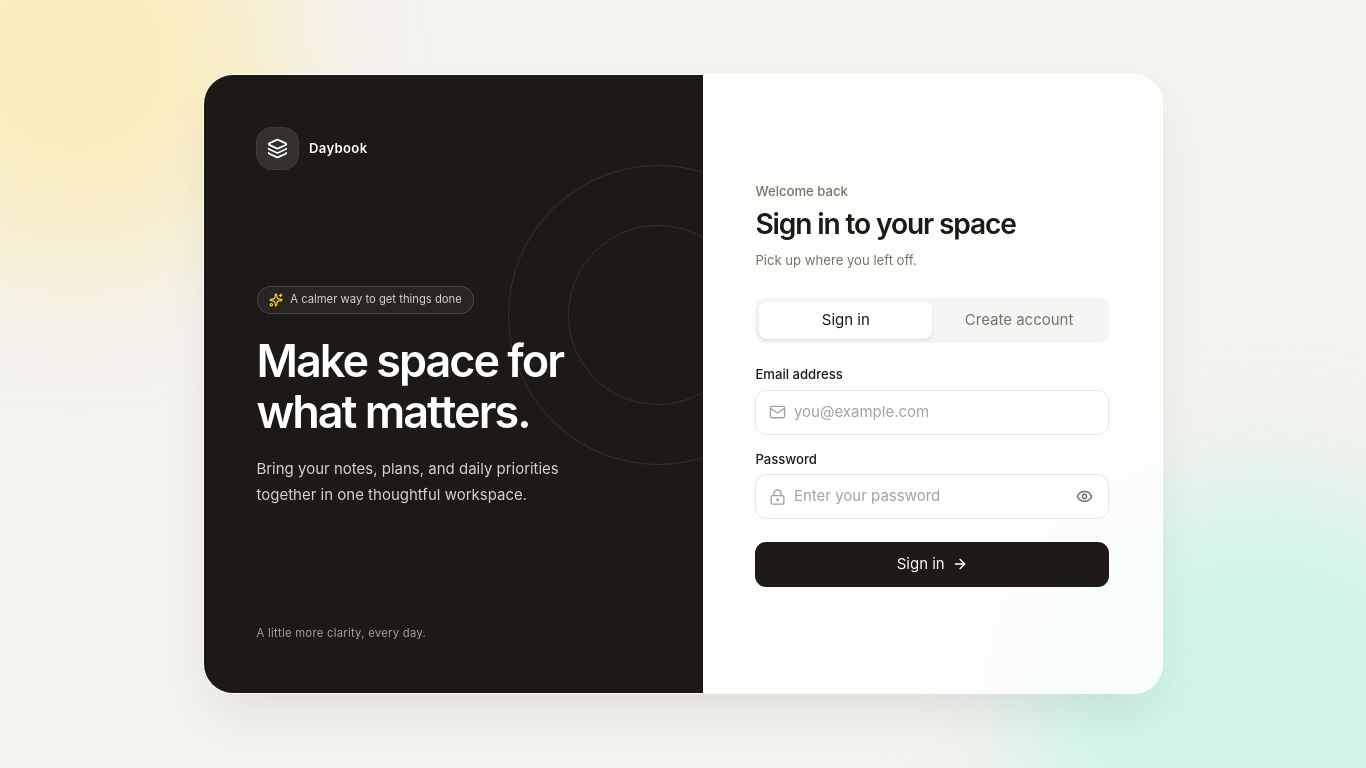
LoginScreen › allows showing and hiding the password
Type "secret1" into the password field labelled "Password". click: (932, 496)
box: [756,474,1110,519]
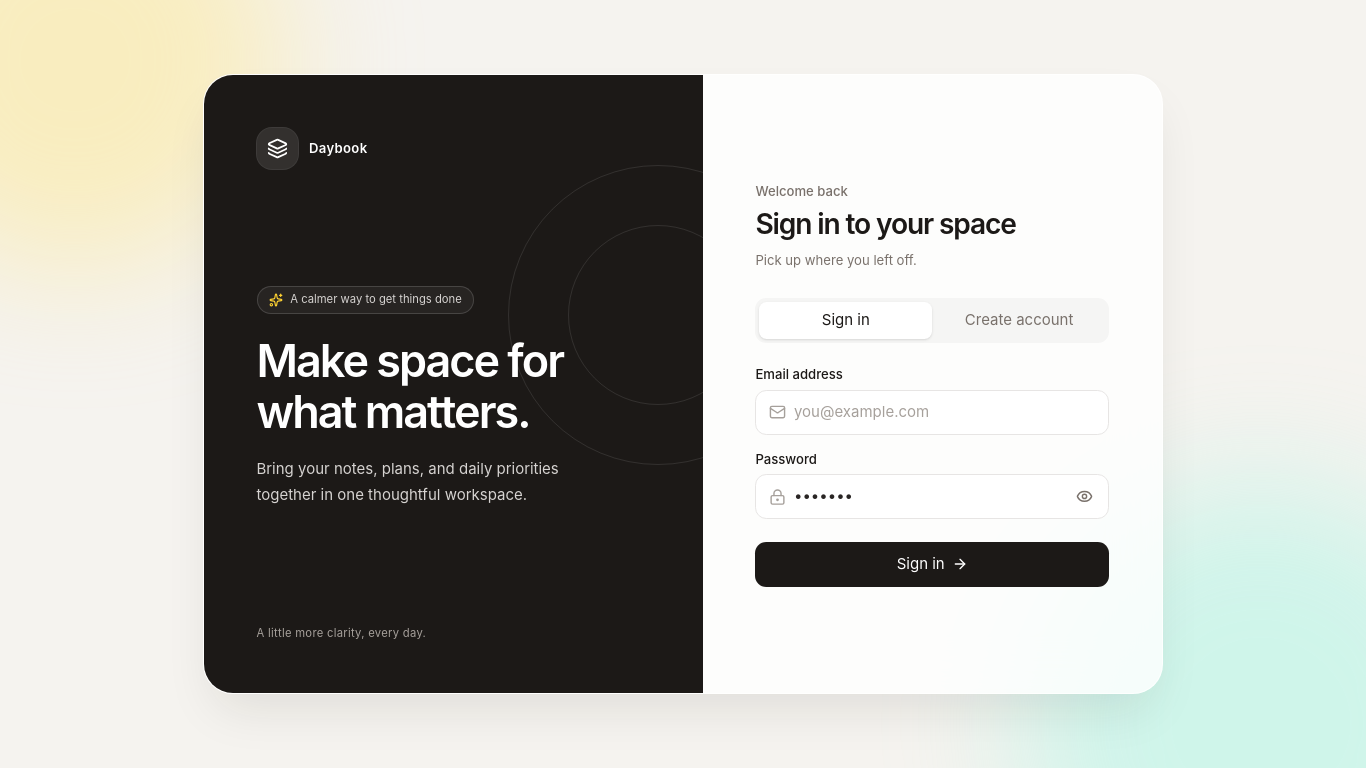
Click the button named "Show password". click: (1084, 497)
box: [1070,482,1098,511]
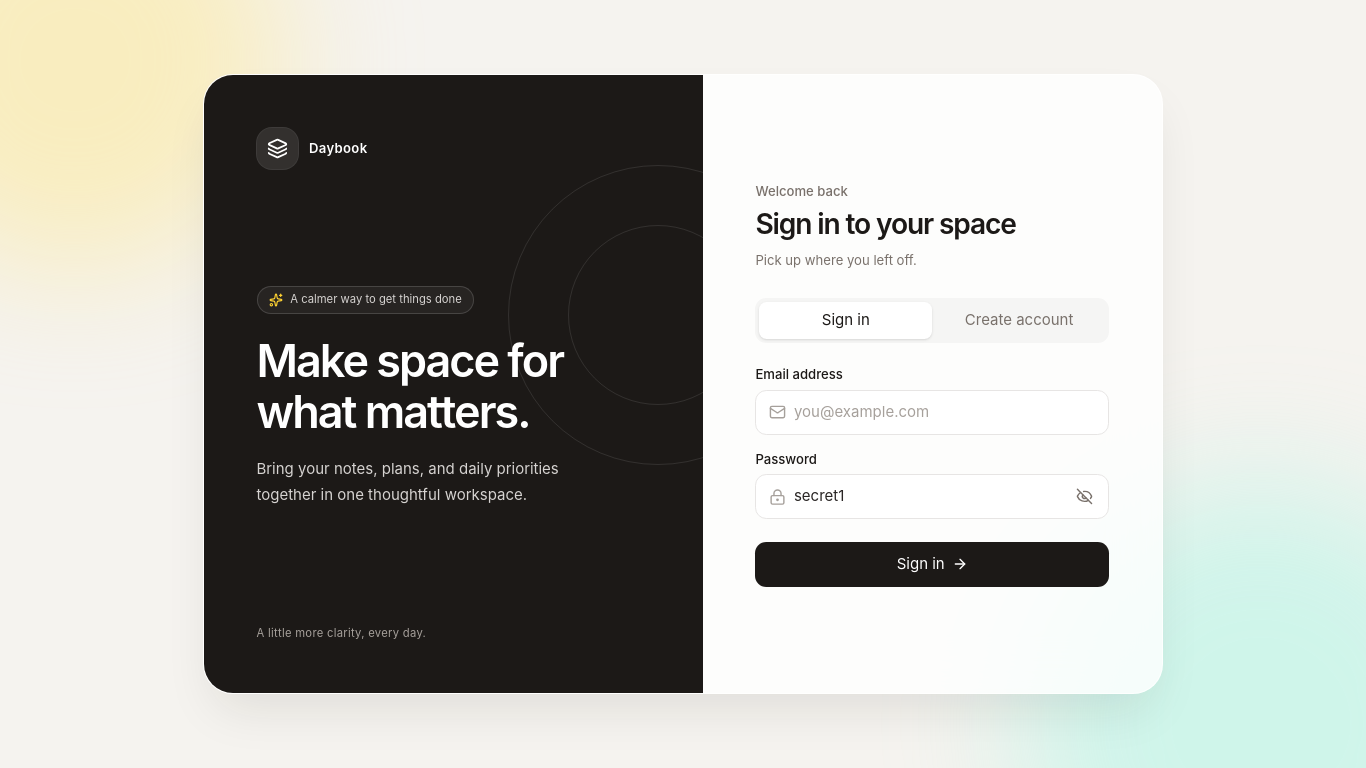
Now the field labelled "Password" shows its text, box [756,474,1110,519]
Click the button named "Hide password". click: (1084, 497)
box: [1070,482,1098,511]
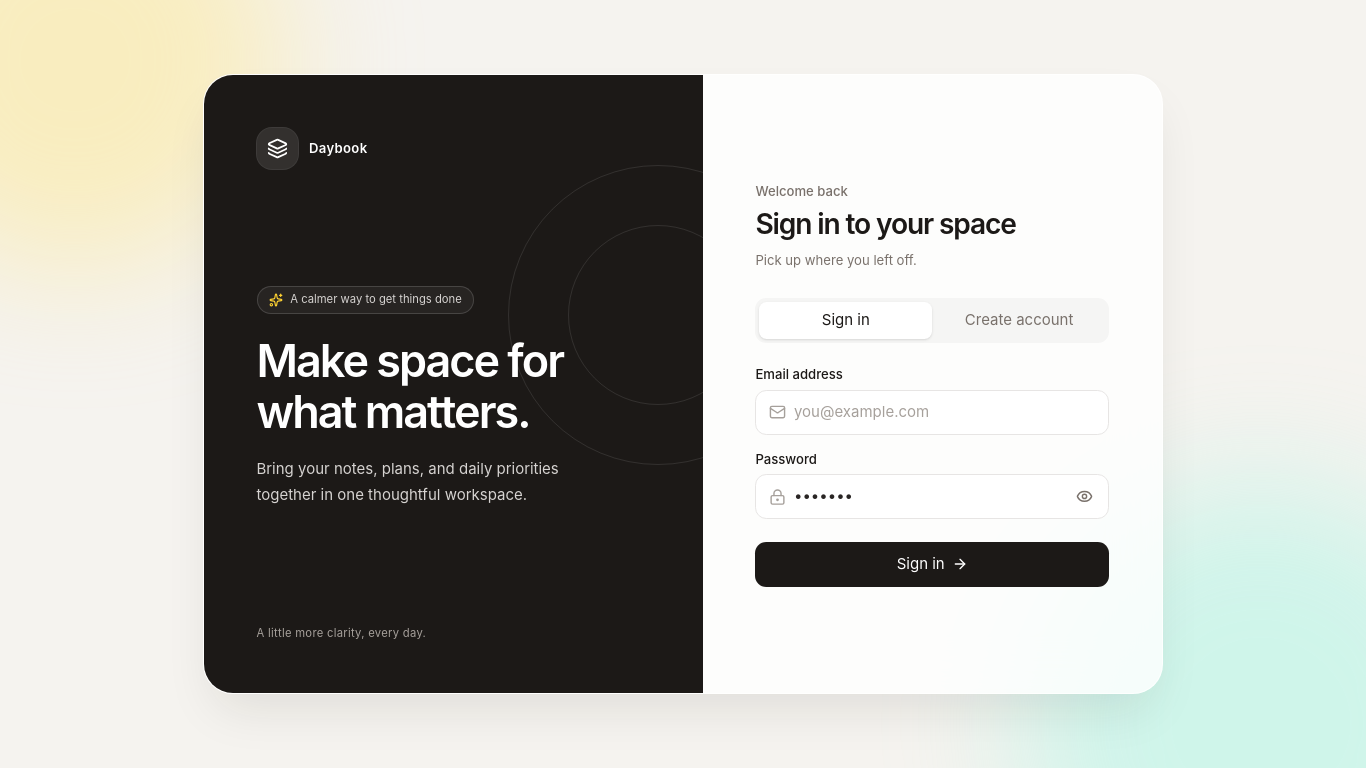
Now the password field labelled "Password" hides its text, box [756,474,1110,519]
